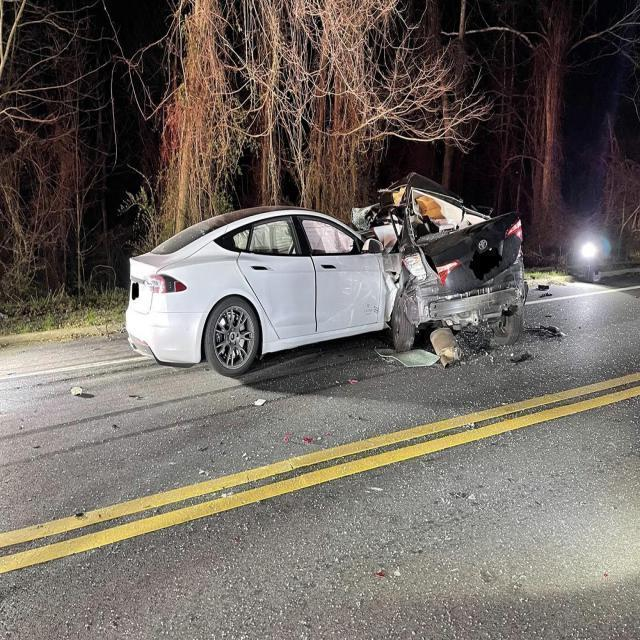multiple_accident: (92, 129, 581, 399), (317, 173, 554, 370)
